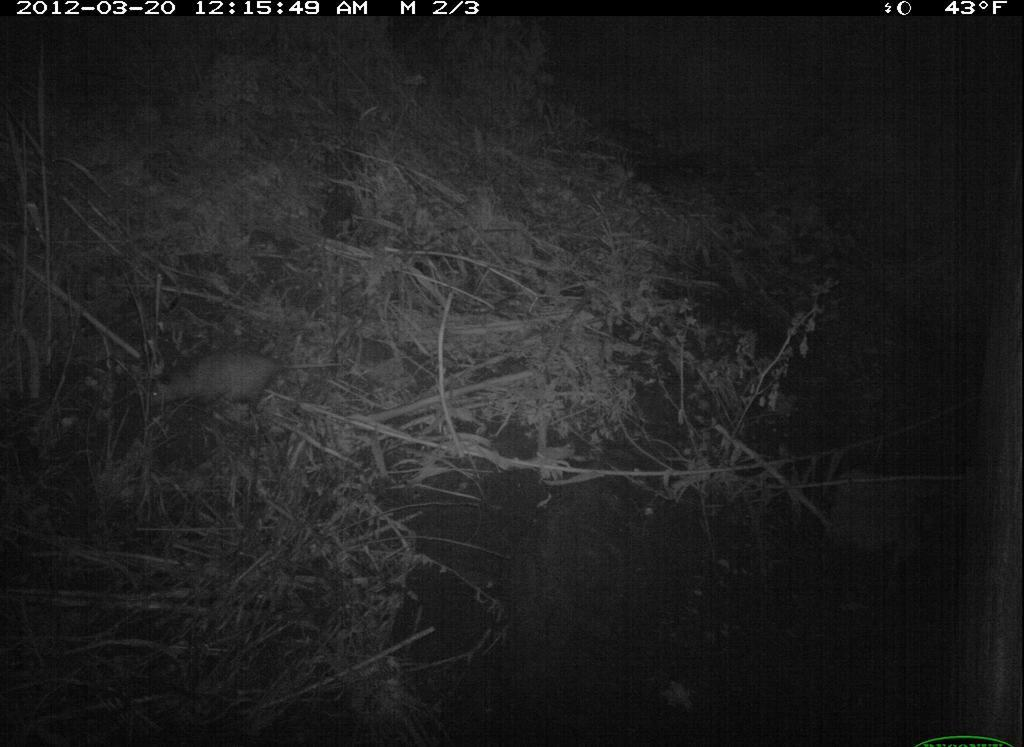opossum: (145, 346, 379, 423)
